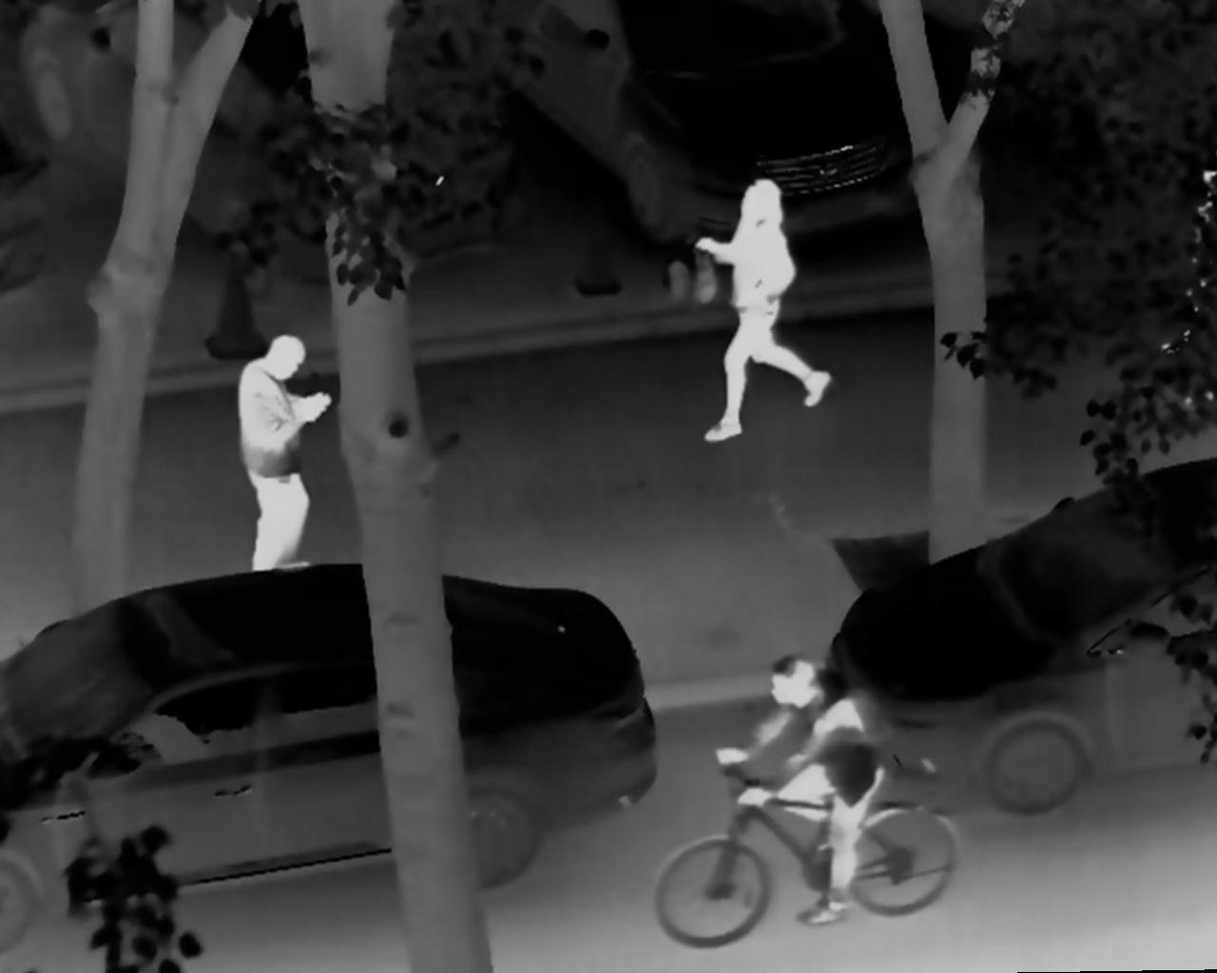person: (715, 641, 882, 933), (693, 174, 838, 449), (223, 330, 330, 578)
